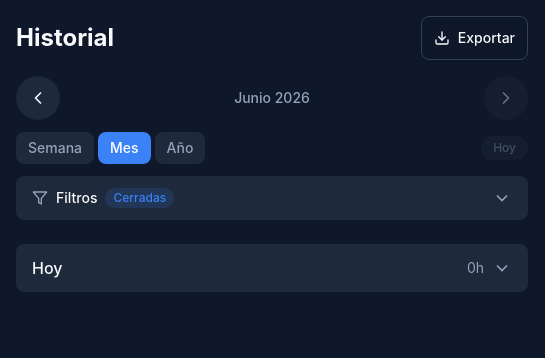
Test: Historial Page › al expandir un día se ven las jornadas
What coordinates should you click on to do the following:
click the button "Hoy 0h"
I would click on:
 (47, 268)
Its box is x1=16 y1=244 x2=528 y2=292.
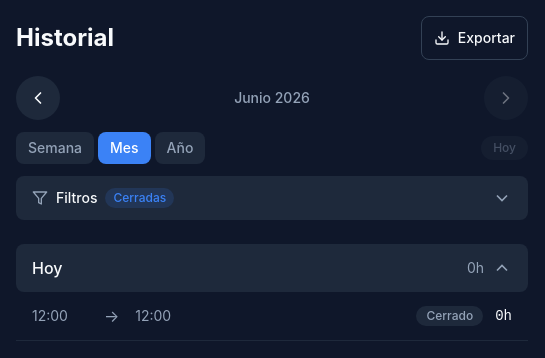
Now the button "Hoy 0h" is expanded, box x1=16 y1=244 x2=528 y2=292
